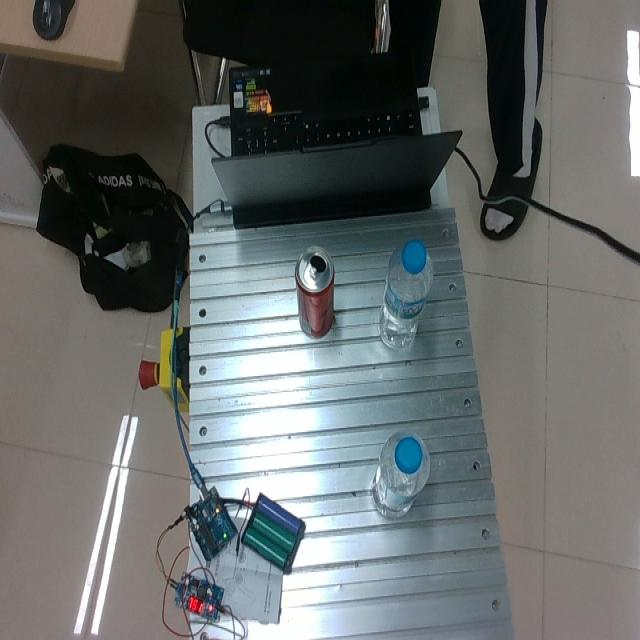coca: (294, 244, 335, 339)
lavie: (377, 238, 433, 350), (371, 432, 430, 520)
